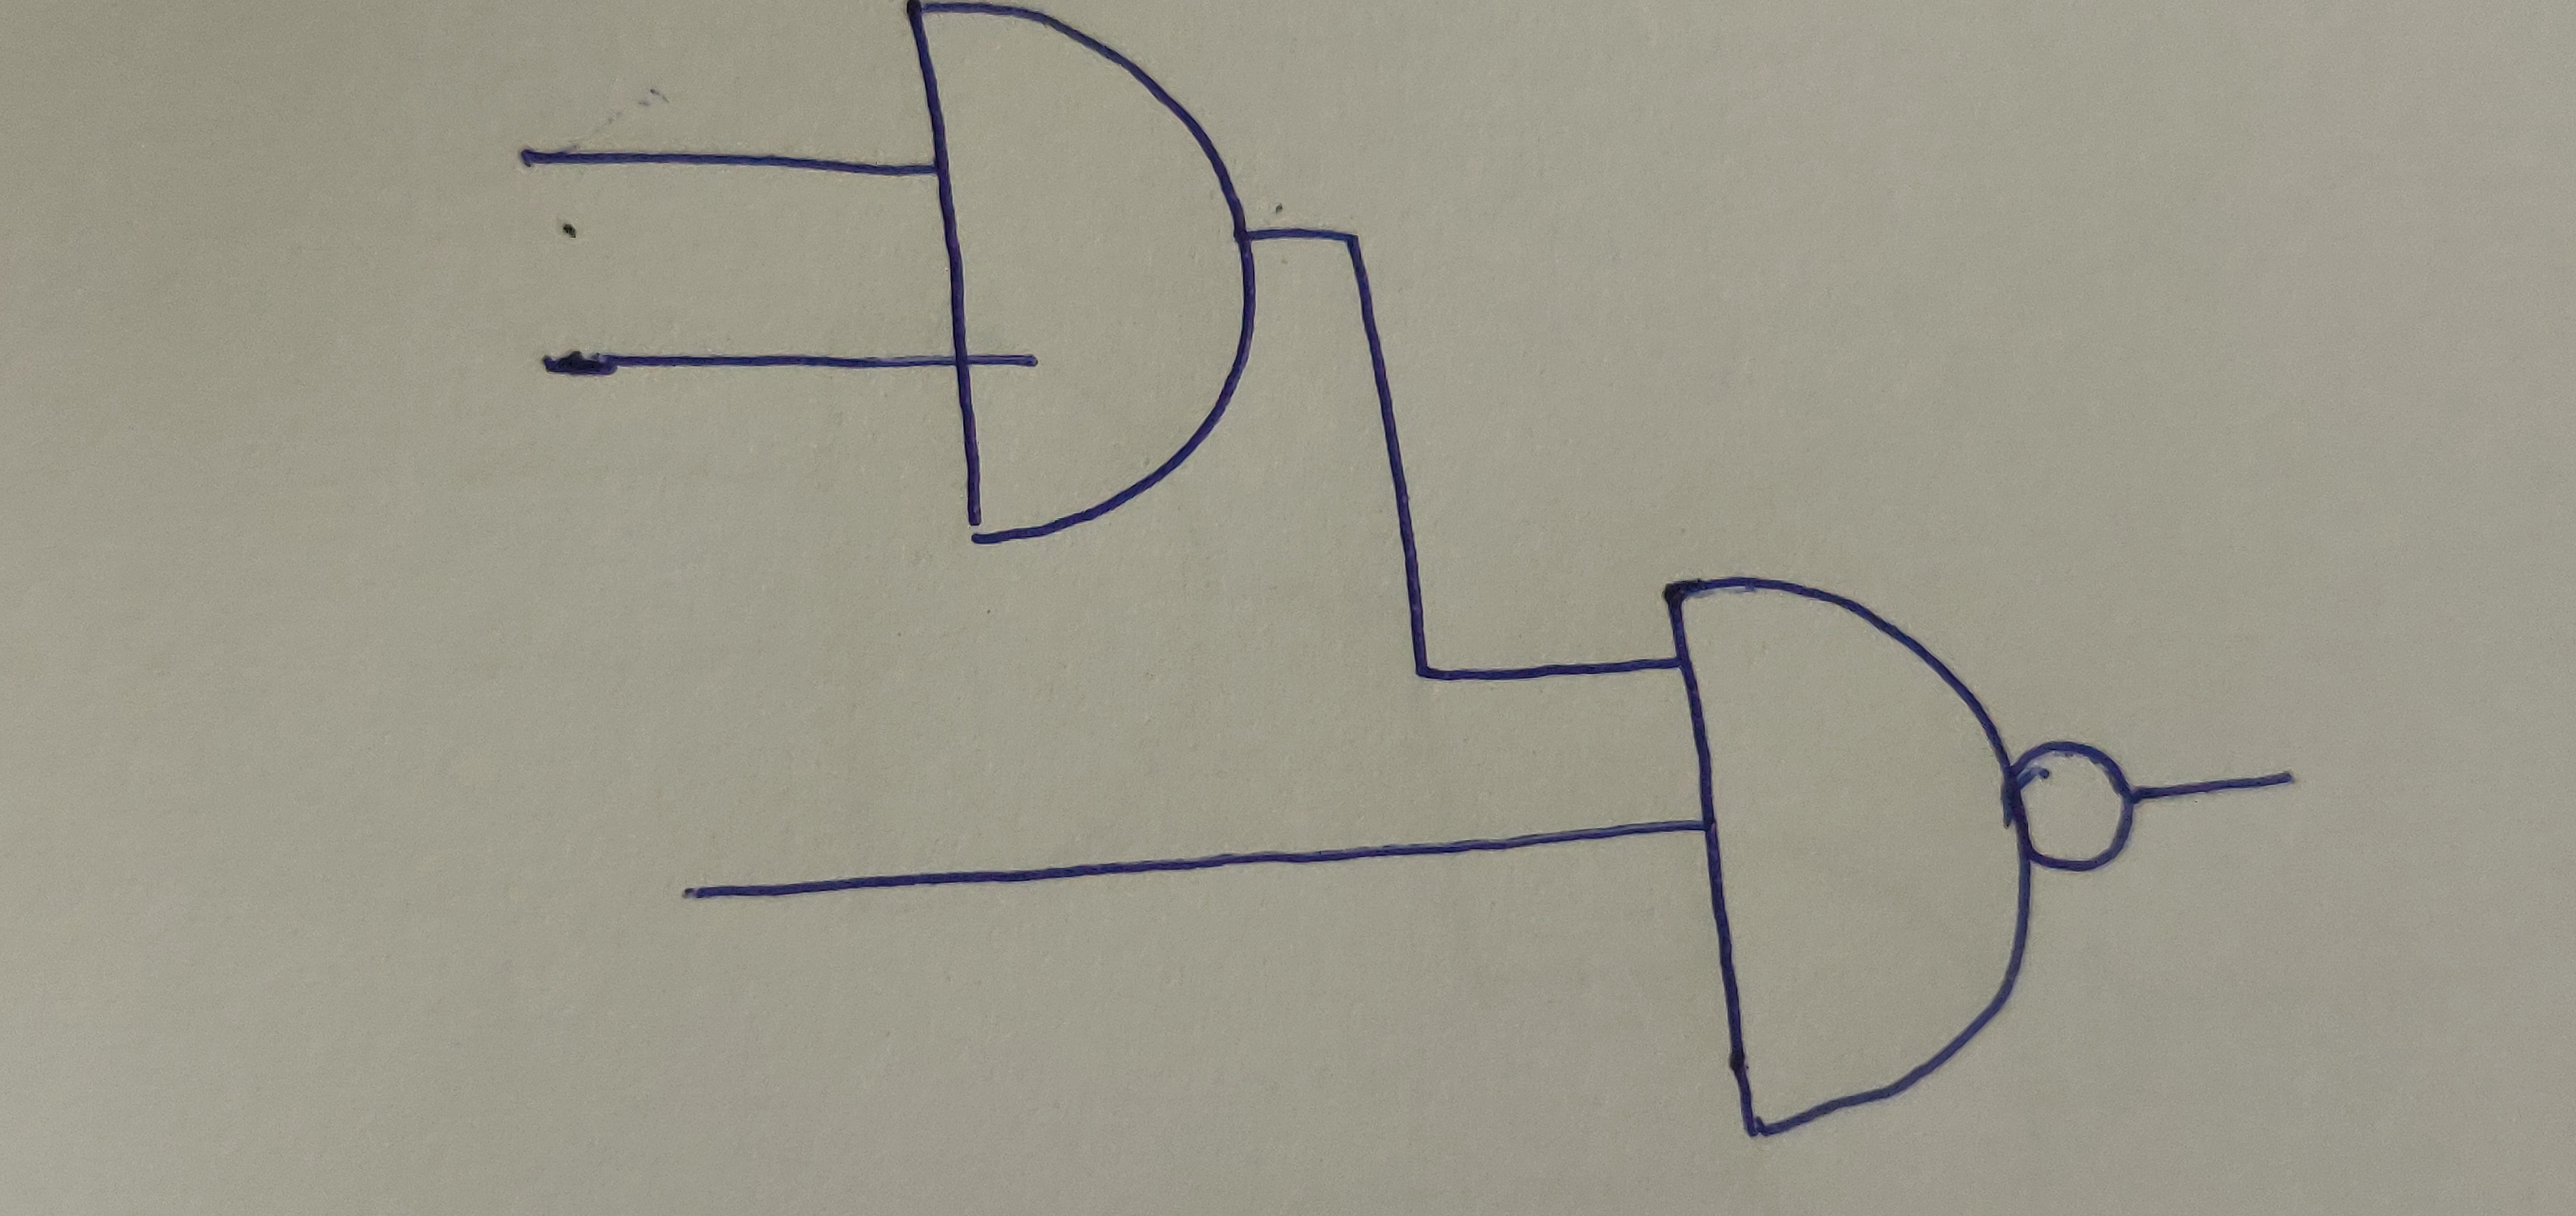and: (1659, 575, 2036, 1137), (904, 7, 1258, 547)
not: (2011, 743, 2137, 874)
